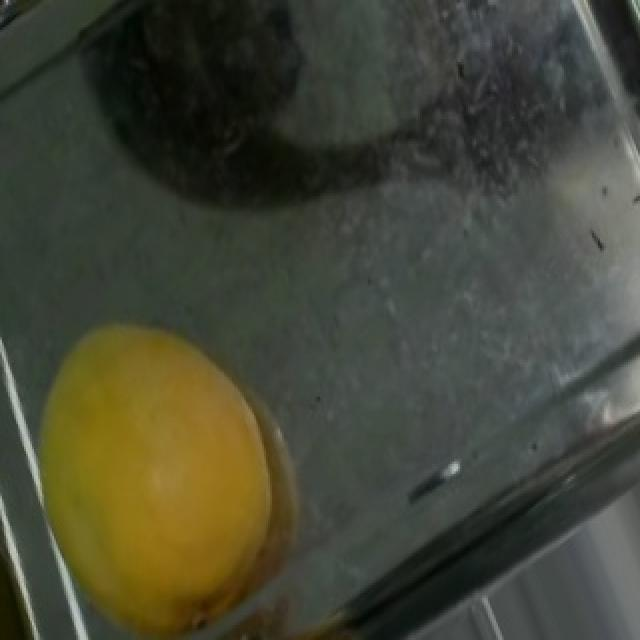fruit: (8, 275, 360, 640), (50, 0, 348, 246)
